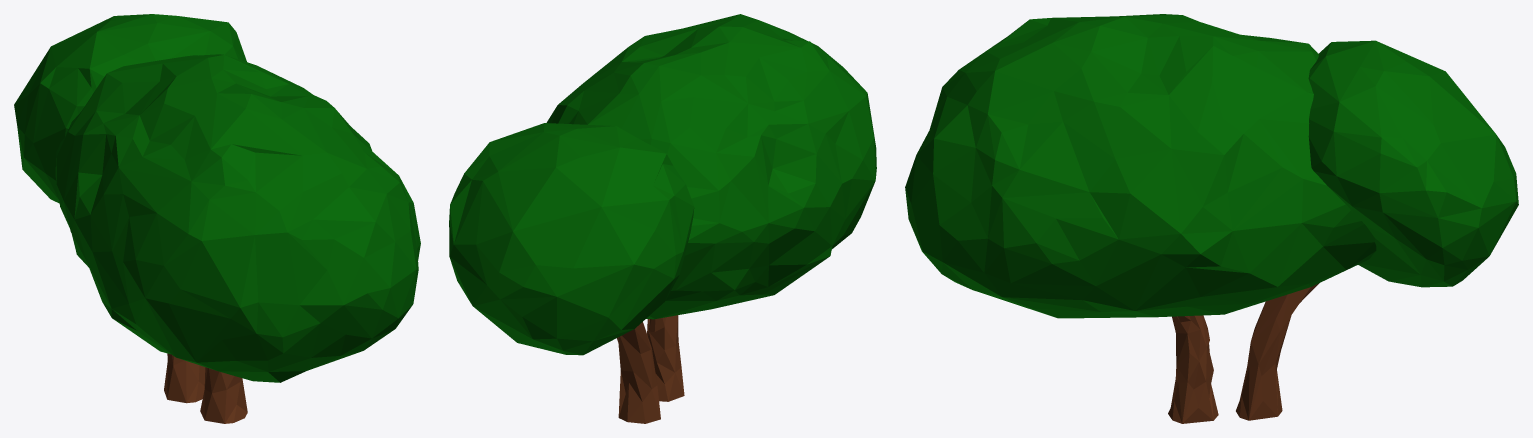
File: Bushybrow.fbx
The picture shows the model from 3 angles, left to right: view 1: azimuth 30°, elevation 25°; view 2: azimuth 150°, elevation 25°; view 3: azimuth 270°, elevation 25°; orthographic projection. The views are drawn at different scales.
Parts seen in each view (by area): view 1: Bushplantstrunk, Bushplantstrunk.001; view 2: Bushplantstrunk, Bushplantstrunk.001; view 3: Bushplantstrunk, Bushplantstrunk.001.
Part boxes in pixels (<box>): Bushplantstrunk: <box>14,14,420,382</box>; Bushplantstrunk.001: <box>164,353,247,423</box>; Bushplantstrunk: <box>449,14,876,355</box>; Bushplantstrunk.001: <box>617,315,684,423</box>; Bushplantstrunk: <box>905,14,1518,318</box>; Bushplantstrunk.001: <box>1168,283,1319,423</box>.
Bounding box in the file's own units: 64.23 × 44.02 × 37.05.
